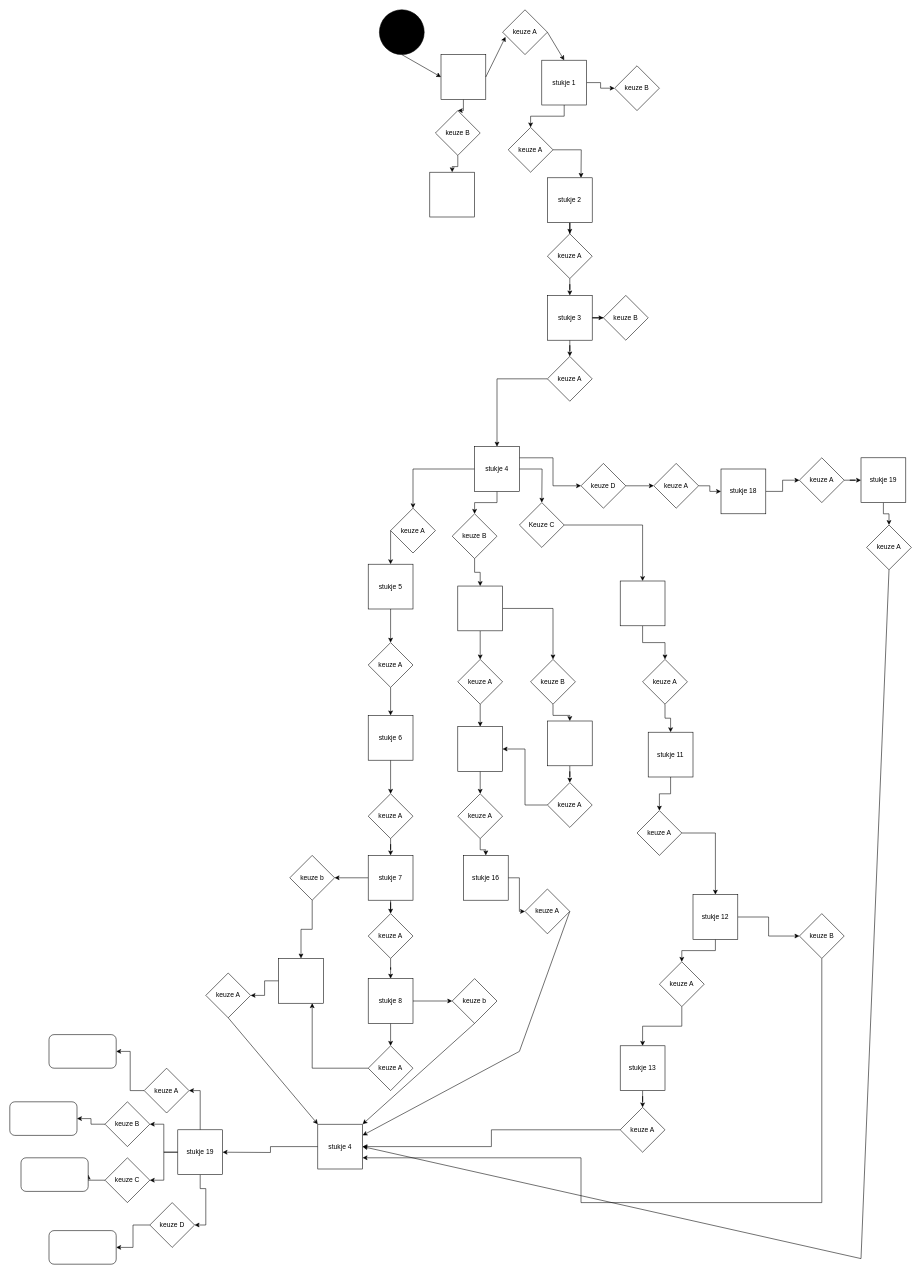
Some shapes in this 921 by 1274 pixel diagram are drawn without their labels. Each missing label, with the centre of its shape:
begin: the point at 463,76
einde 1: the point at 82,1051
einde 2: the point at 43,1118
einde 3: the point at 54,1174
einde 4: the point at 82,1247
stukje 10: the point at 642,603
stukje 14: the point at 480,608
stukje 15: the point at 480,748
stukje 20: the point at 452,194
stukje 22: the point at 569,743
stukje 9: the point at 300,980
